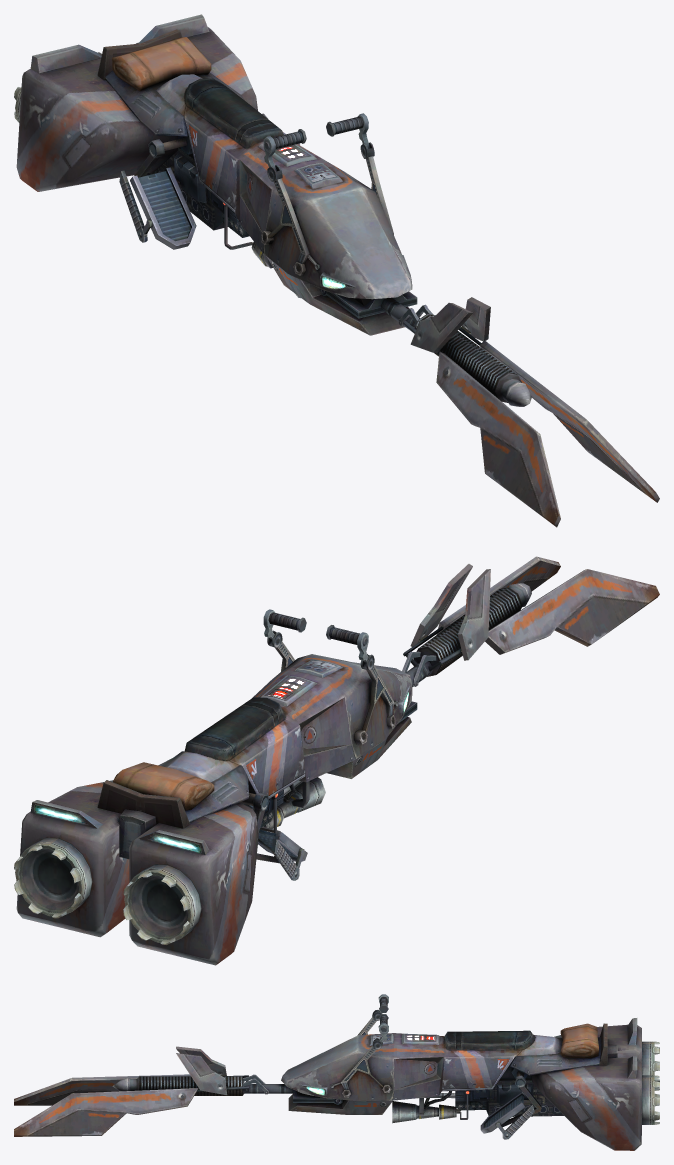
The model's file is veh_neu_speeder_02.glb.
3 views of the same model, one above another, from view 1: azimuth 30°, elevation 25°; view 2: azimuth 150°, elevation 25°; view 3: azimuth 270°, elevation 25° (orthographic). The views are drawn at different scales.
Parts seen in each view (by area): view 1: veh_neu_speeder_02; view 2: veh_neu_speeder_02; view 3: veh_neu_speeder_02.
Part boxes in pixels (x1,y1,x2,y2): veh_neu_speeder_02: [14, 14, 659, 527]; veh_neu_speeder_02: [14, 556, 659, 965]; veh_neu_speeder_02: [14, 994, 659, 1150].
Size of the model in its own units: 0.1101 by 0.094 by 0.4849.
Materials: 1 (1 with a texture image).
